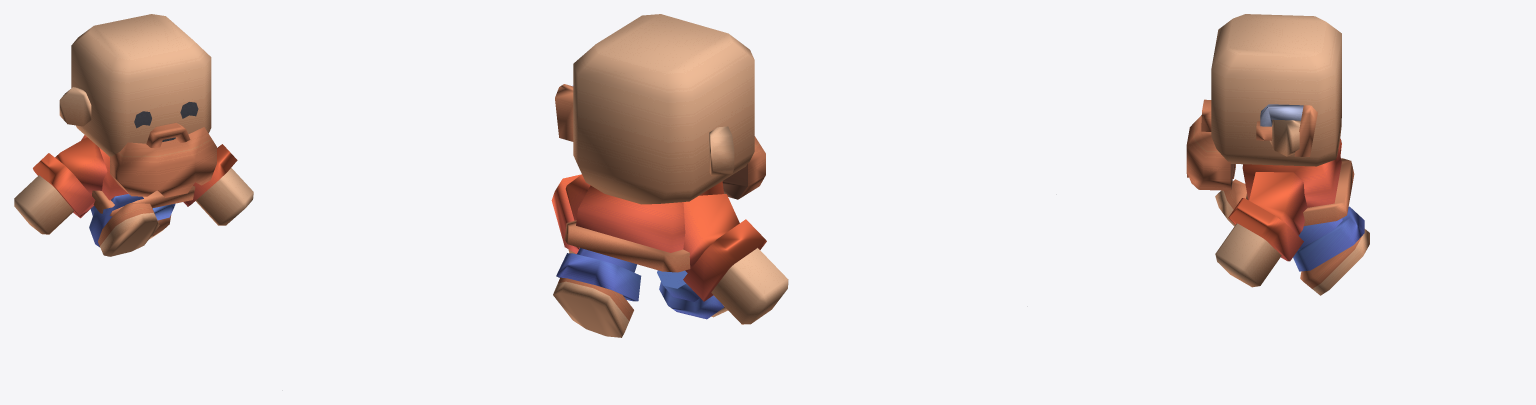
Rendered from rival_sprint_6.glb.
The picture shows the model from 3 angles, left to right: view 1: azimuth 30°, elevation 25°; view 2: azimuth 150°, elevation 25°; view 3: azimuth 270°, elevation 25°; orthographic projection. The views are drawn at different scales.
Visible parts, largest first — view 1: rival-sprint-6; view 2: rival-sprint-6; view 3: rival-sprint-6.
Part boxes in pixels (x1,y1,x2,y2): rival-sprint-6: (14,14,253,256); rival-sprint-6: (551,14,788,337); rival-sprint-6: (1186,14,1369,295).
Bounding box in the file's own units: 1.2 × 0.7311 × 1.2.
Materials: 1 (1 with a texture image).
